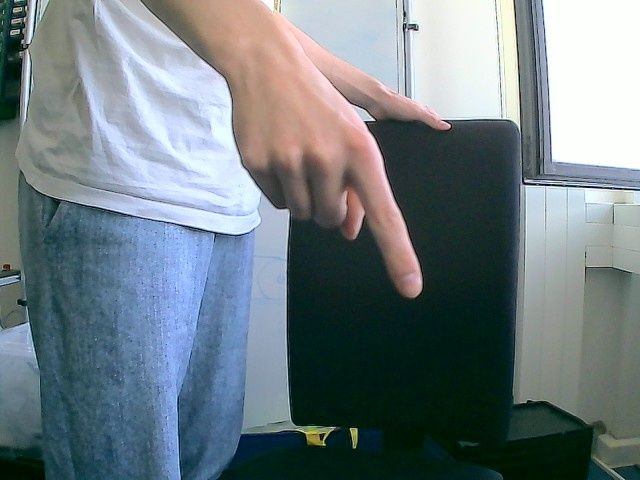down: (223, 10, 424, 298)
